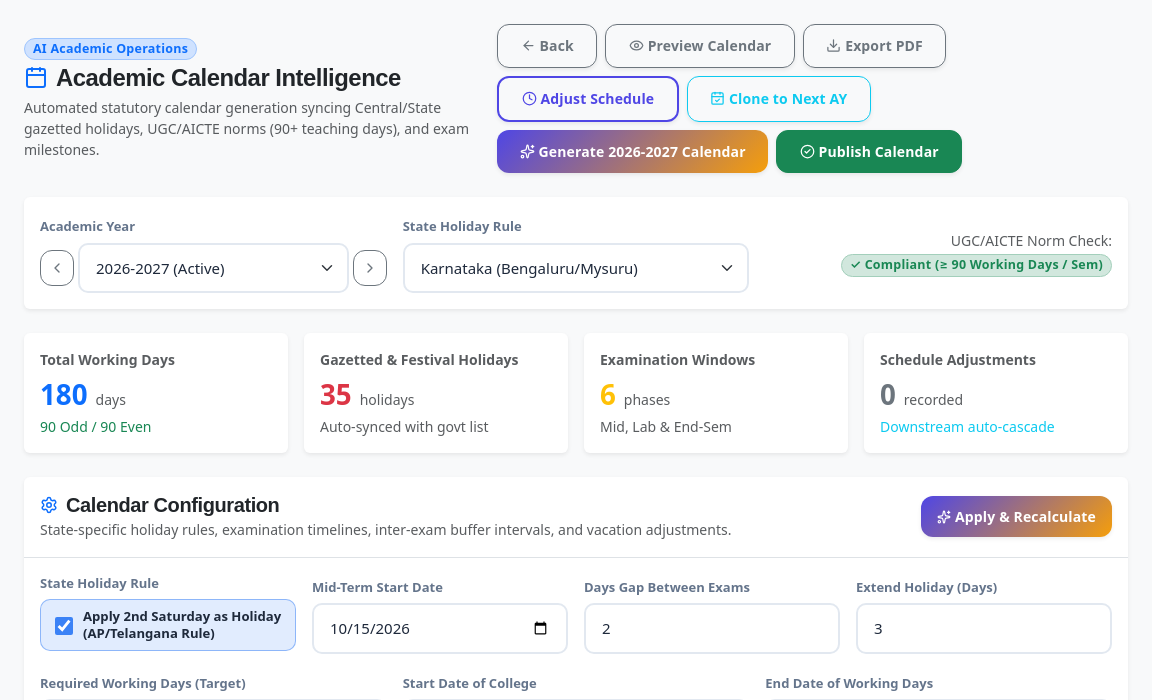
it: AcademicCalendarPage Component › Opens export modal and supports toggling between 2 PDF formats
Click the button "Export PDF" at (875, 46), box [803,24,946,68]
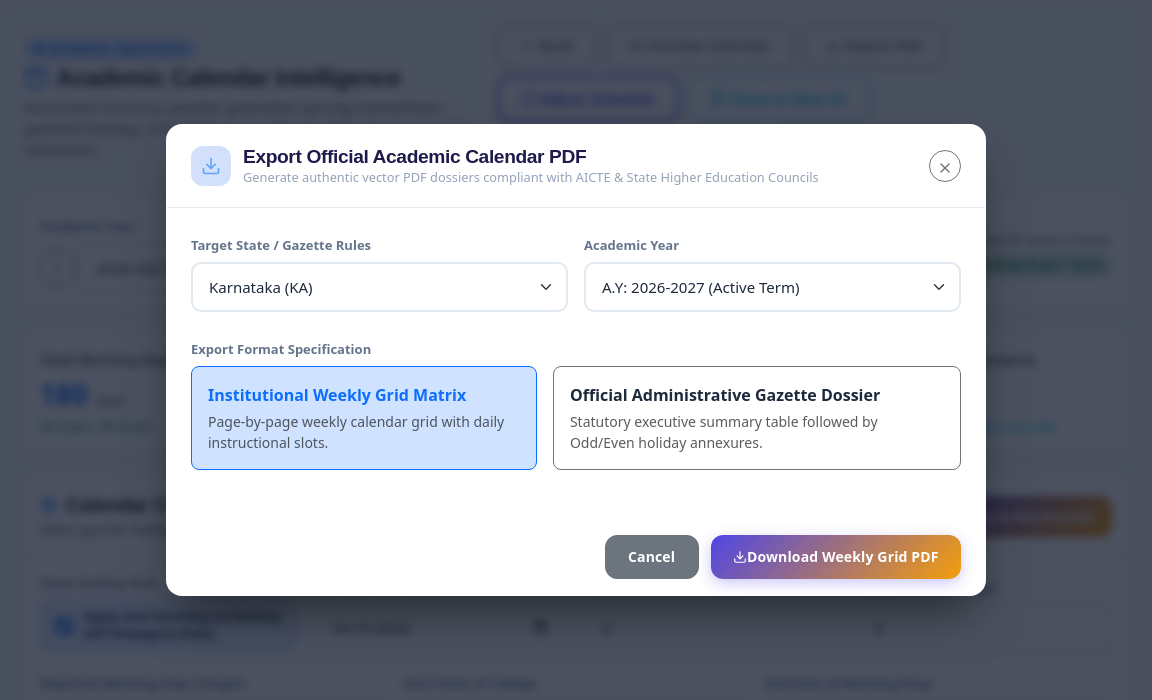
Now the heading "Export Official Academic Calendar PDF" is shown, box [243,146,586,167]
Now the text "Institutional Weekly Grid Matrix" is shown, box [208,384,466,406]
Now the text "Official Administrative Gazette Dossier" is shown
// Select Format 2 (Gazette)
Click the text "Official Administrative Gazette Dossier" at (725, 395), box [570,384,880,406]
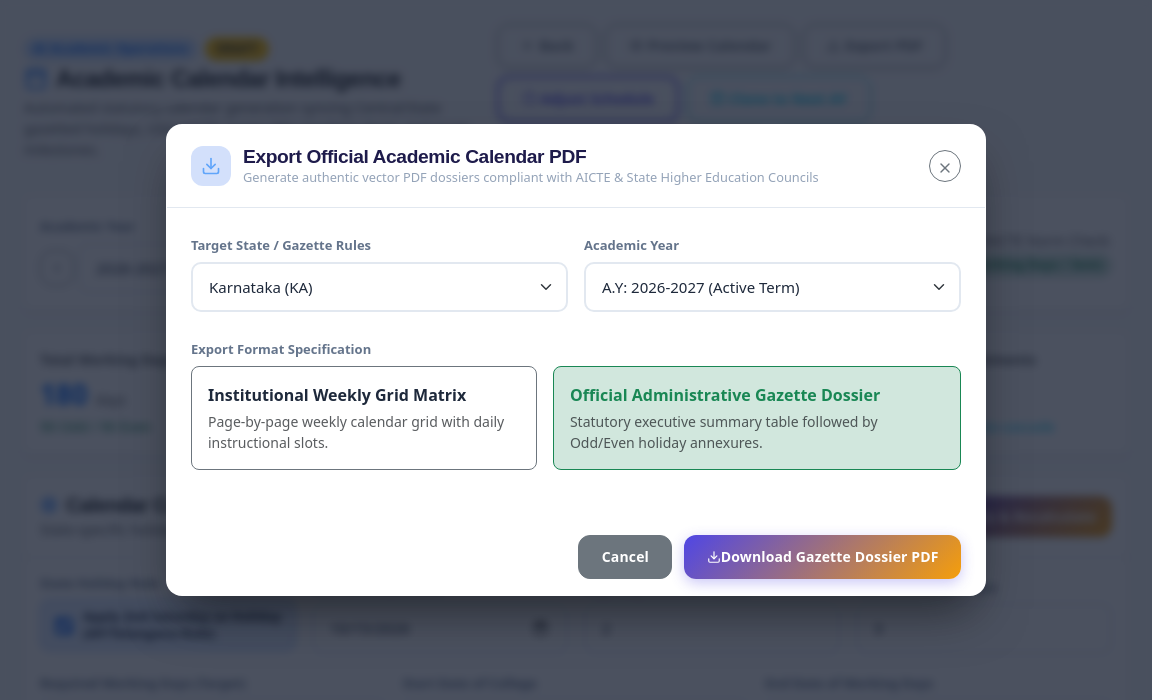
Now the text "Download Gazette Dossier PDF" is shown, box [721,546,939,567]
